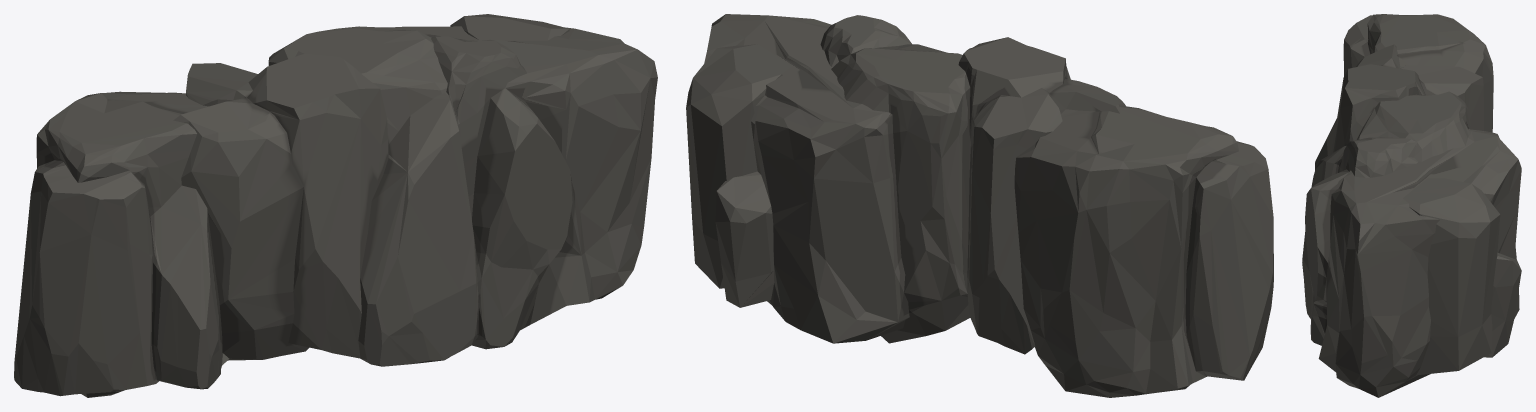
File: SM_Env_Rock_Cliff_01.fbx
3 renders of one model, left to right at view 1: azimuth 30°, elevation 25°; view 2: azimuth 150°, elevation 25°; view 3: azimuth 270°, elevation 25°, orthographic. The views are drawn at different scales.
Parts seen in each view (by area): view 1: SM_Env_Rock_Cliff_01; view 2: SM_Env_Rock_Cliff_01; view 3: SM_Env_Rock_Cliff_01.
Part boxes in pixels (x1=…): SM_Env_Rock_Cliff_01: x1=14, y1=14, x2=657, y2=397; SM_Env_Rock_Cliff_01: x1=686, y1=14, x2=1273, y2=397; SM_Env_Rock_Cliff_01: x1=1302, y1=14, x2=1521, y2=397.
Size of the model in its own units: 2227 by 1023 by 914.
1 material, 1 textured.
